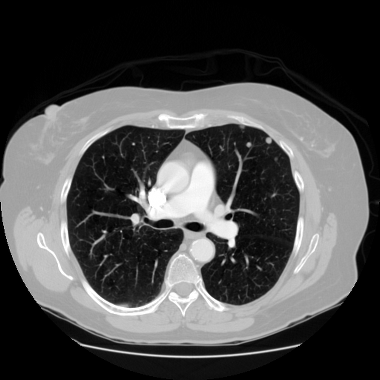nodule: (246, 141, 252, 147)
